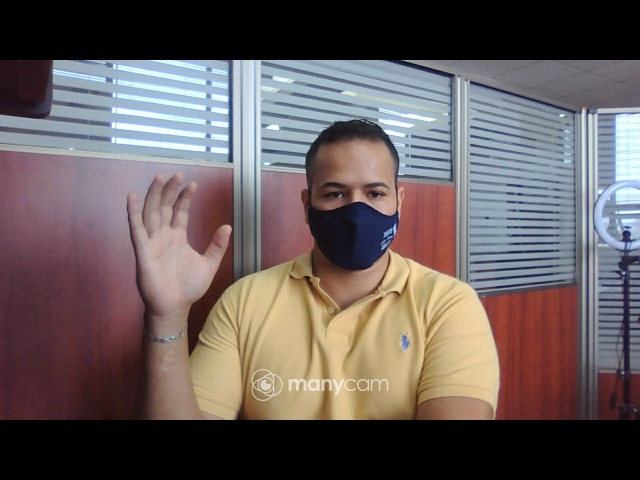Hello: (122, 169, 234, 324)
